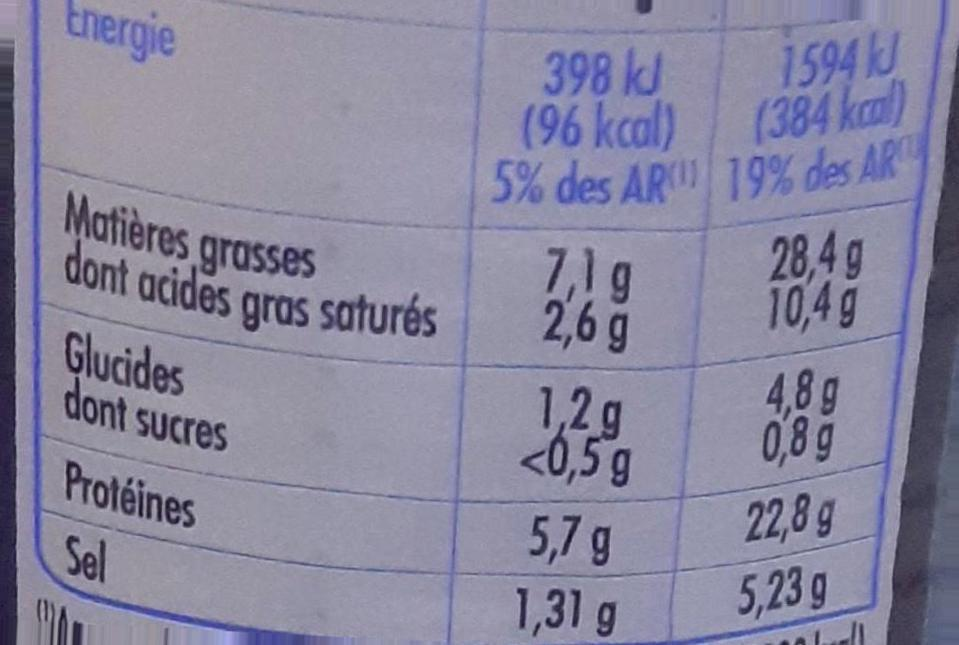line: (55, 12, 913, 199), (76, 559, 835, 630), (60, 212, 862, 277), (64, 280, 857, 339), (73, 486, 845, 546), (68, 415, 842, 473), (68, 360, 846, 410)
table: (50, 9, 897, 639)
volumn: (55, 12, 436, 604), (487, 46, 689, 632), (719, 18, 913, 599)
